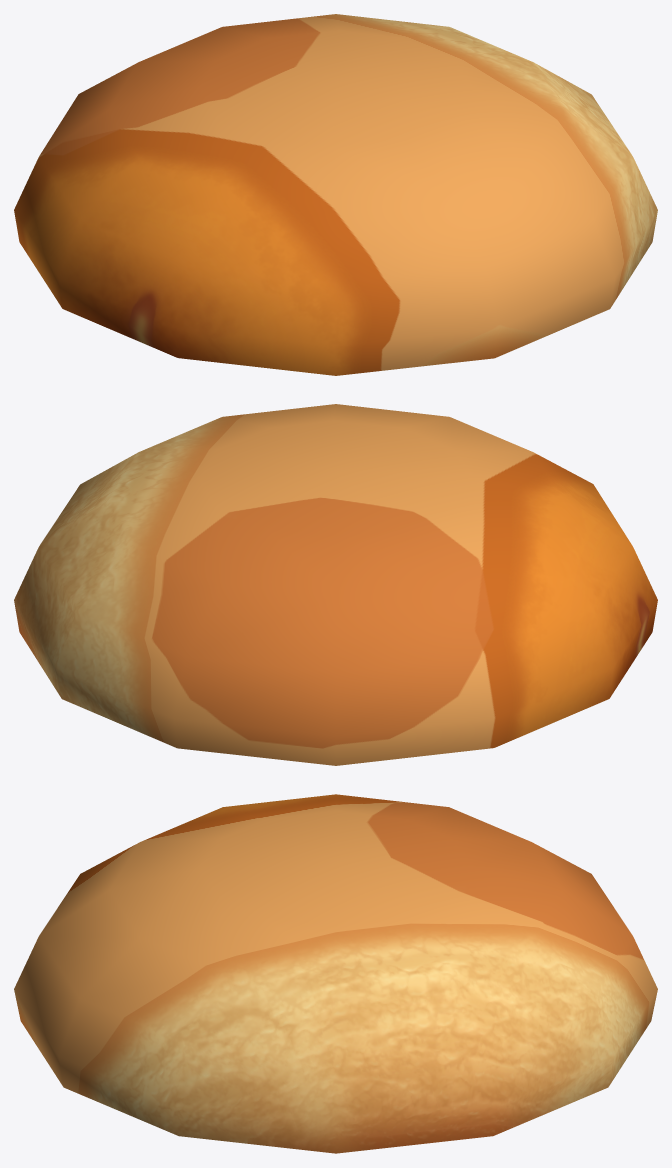
The model's file is Bun_Burger_Seeds_Top.fbx.
3 views of the same model, one above another, from view 1: azimuth 30°, elevation 25°; view 2: azimuth 150°, elevation 25°; view 3: azimuth 270°, elevation 25° (orthographic).
Parts seen in each view (by area): view 1: Bun_Burger_Seeds_Top; view 2: Bun_Burger_Seeds_Top; view 3: Bun_Burger_Seeds_Top.
Boxes of the visible parts, <box> form: Bun_Burger_Seeds_Top: <box>14,14,657,375</box>; Bun_Burger_Seeds_Top: <box>14,404,657,765</box>; Bun_Burger_Seeds_Top: <box>14,794,657,1153</box>.
Size of the model in its own units: 42.82 by 11.91 by 43.36.
